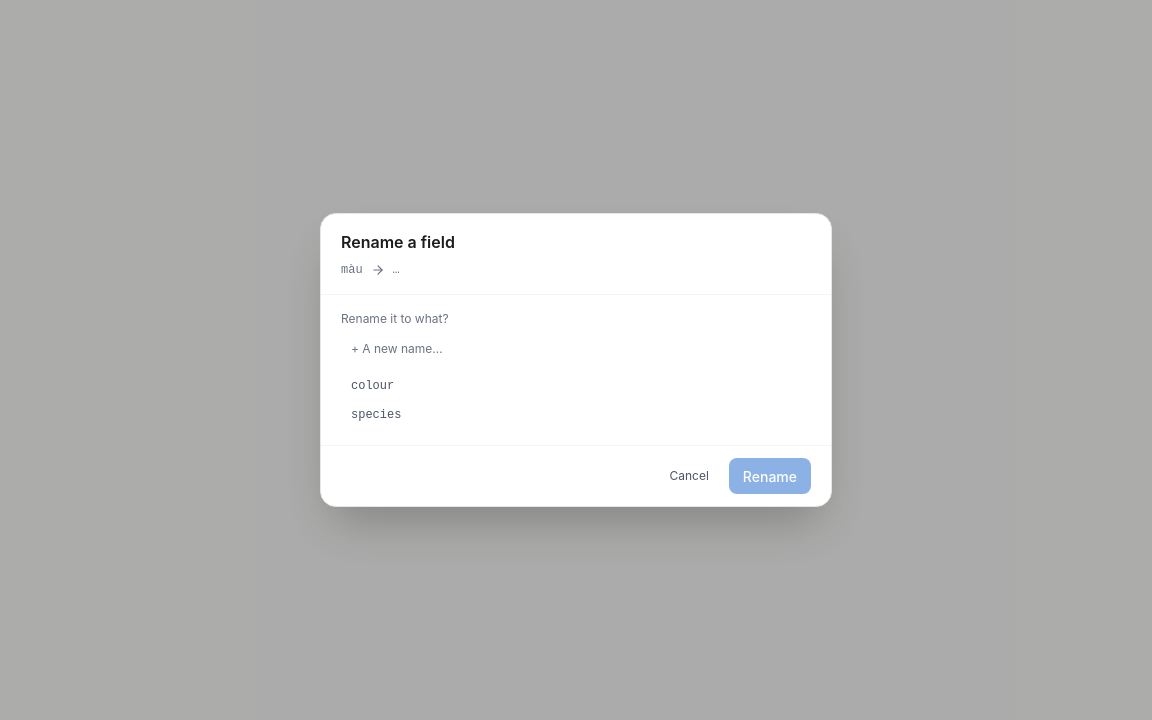
Test: merging one field into another › allows a merge that only changes the shape
This screenshot has width=1152, height=720.
Click the button "colour" at (373, 386), box [341,372,811,400]
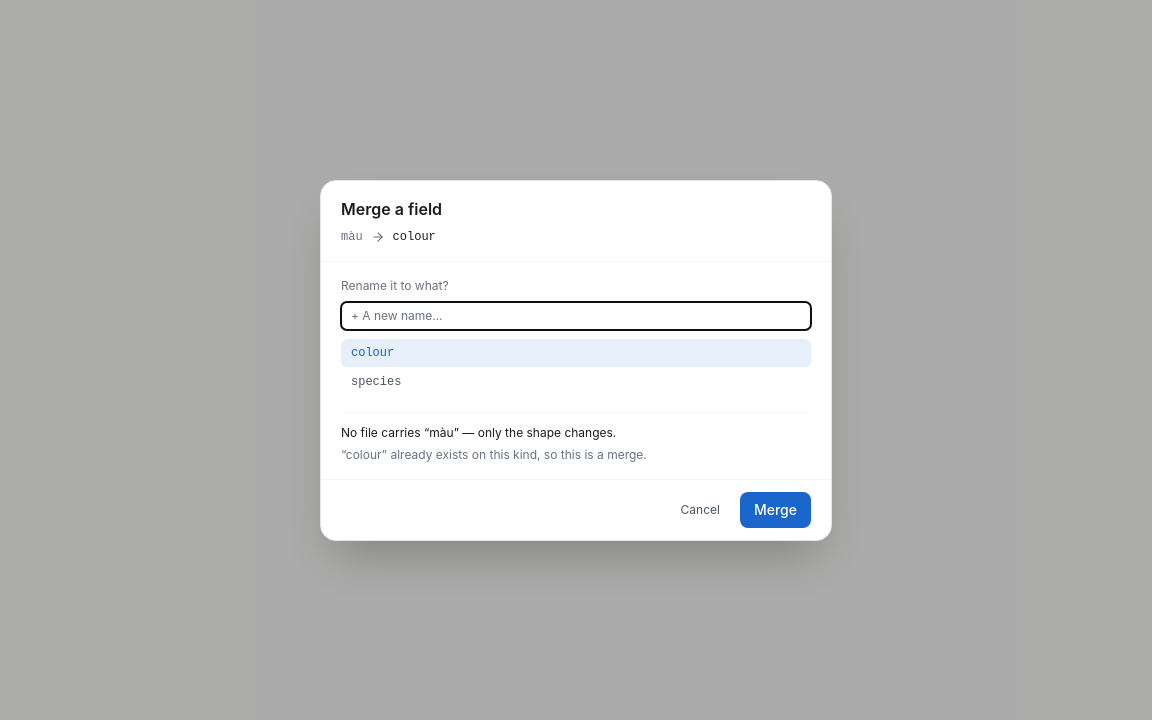
Result: the button "Merge" is enabled at [740,492,811,528]
Result: the text "No file carries “màu”" is shown at [341,424,616,440]
